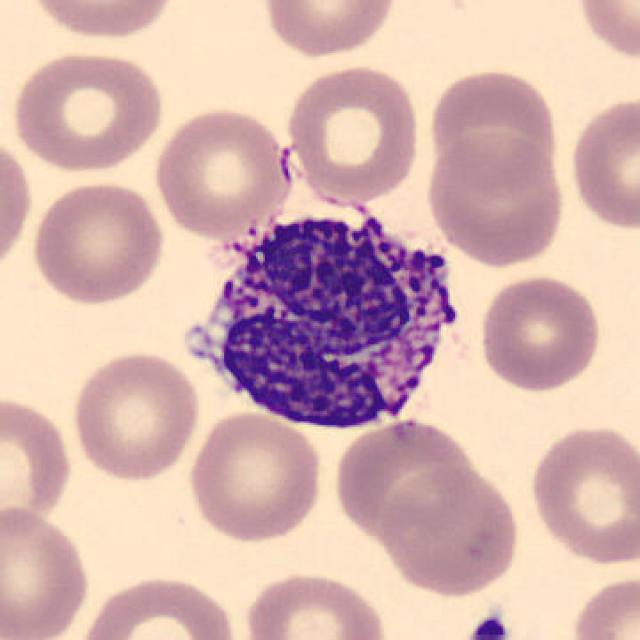Basophil: (170, 188, 477, 440)
Platelets: (466, 613, 512, 640)
RBC: (281, 60, 425, 204), (7, 46, 167, 174), (423, 130, 569, 268), (149, 102, 295, 238), (377, 463, 523, 598), (185, 407, 327, 545), (331, 416, 480, 543), (28, 176, 169, 307), (68, 346, 202, 483), (425, 63, 562, 194), (524, 421, 638, 568), (474, 271, 604, 395), (0, 502, 94, 640), (75, 571, 240, 640), (238, 567, 391, 640), (0, 389, 76, 534), (566, 93, 638, 233), (258, 0, 400, 60), (21, 0, 181, 42), (0, 127, 36, 280), (565, 571, 640, 640), (572, 0, 640, 65)
